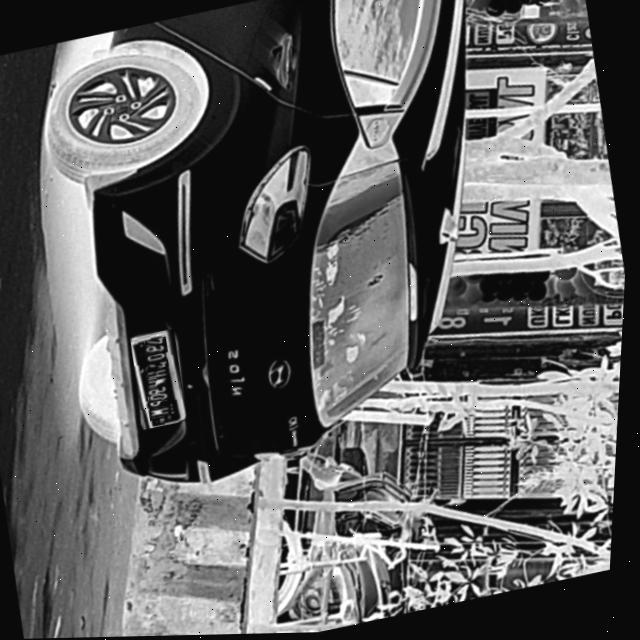0: (150, 392, 174, 405), (147, 353, 170, 365)
4: (148, 360, 172, 372), (146, 337, 169, 348)
9: (145, 343, 171, 358), (150, 385, 173, 397)
H: (150, 367, 172, 381)
IND: (160, 415, 177, 424)
Indian_registered: (133, 332, 189, 429)
M: (152, 407, 176, 420)
P: (152, 399, 174, 411)
W: (150, 376, 173, 390)
